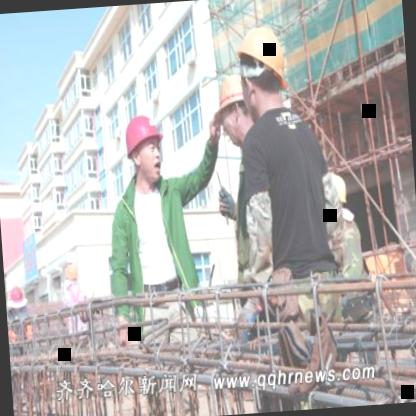helmet: (234, 26, 296, 131), (122, 115, 167, 191), (318, 167, 353, 219), (5, 282, 28, 314), (62, 260, 80, 288)
